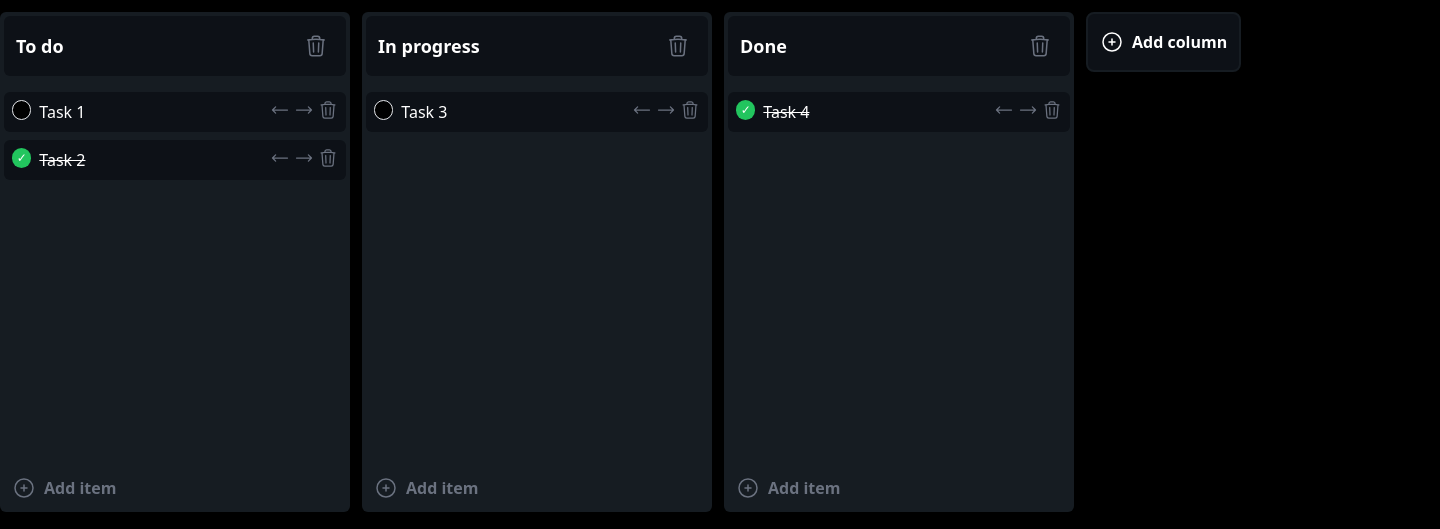
it: KanbanBoard › when the 'Add task' button is clicked › when the input is on blurred › shows the 'Add task' button on click outside the input
Click the 2nd button "Add item" at (442, 488), box [366, 468, 708, 508]
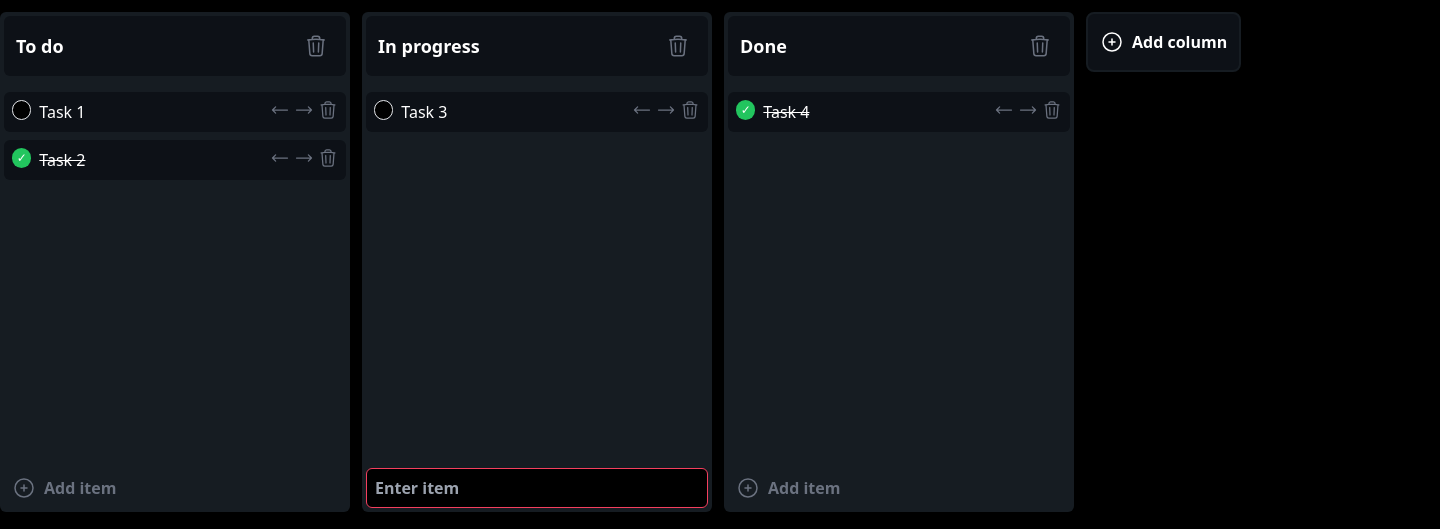
Type "New Task" into the field with placeholder "Enter item" at (537, 488), box [366, 468, 708, 508]
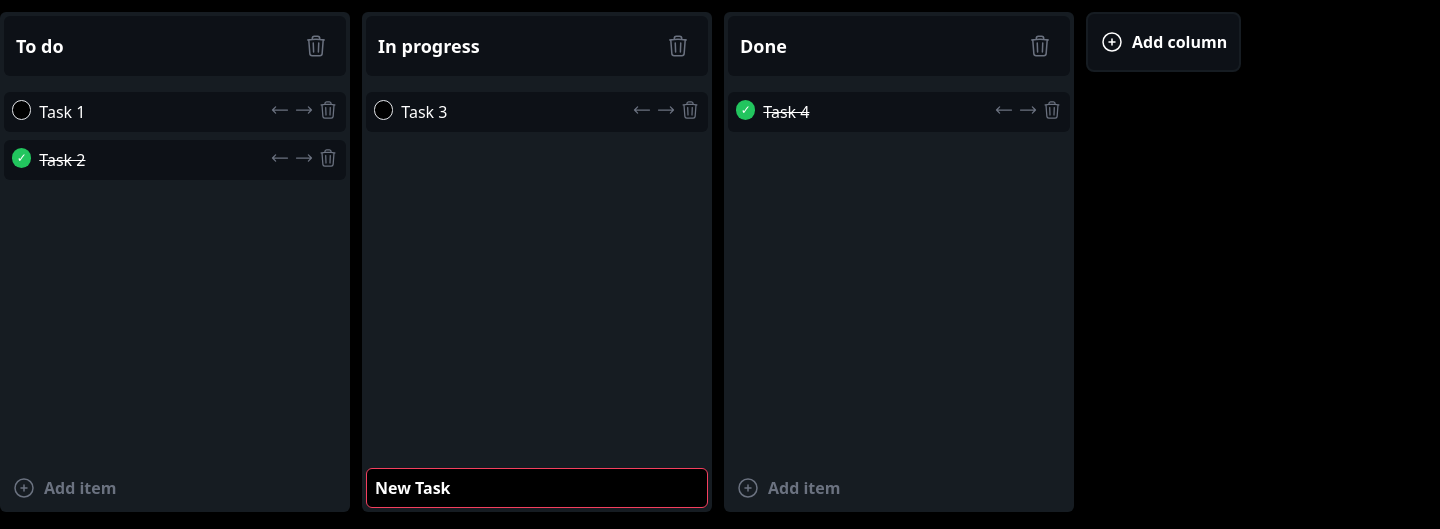
Click the element that starts with "To do" at (720, 262), box [0, 12, 1439, 512]
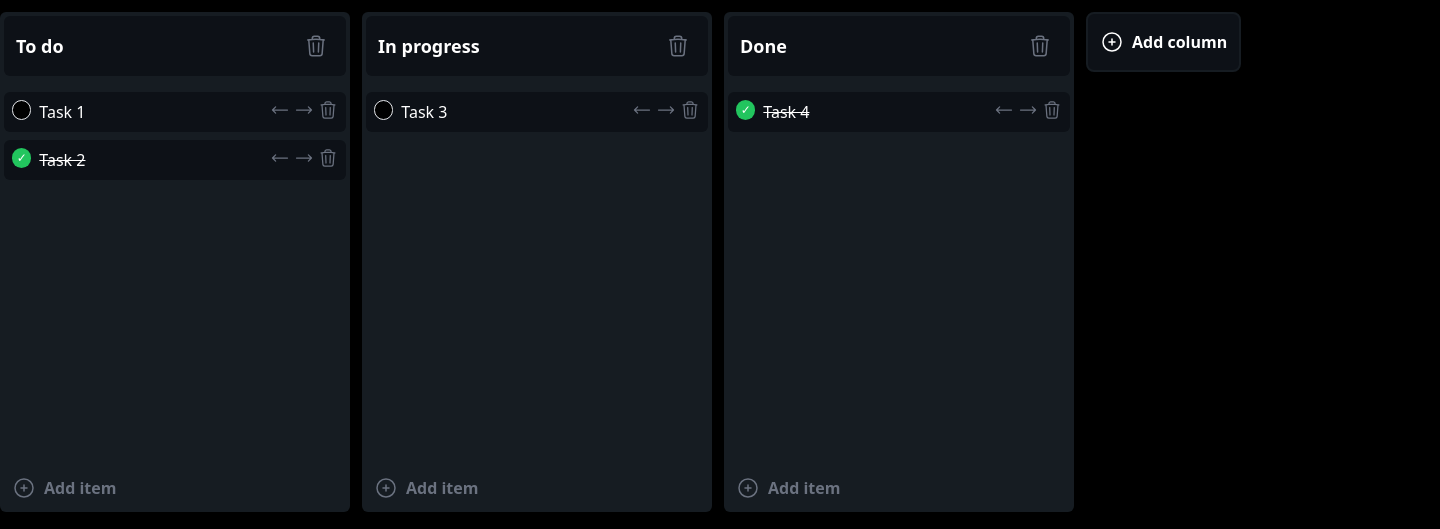
expect the text "New Task" is not shown: met
expect the 2nd button "Add item" is shown: met, box [366, 468, 708, 508]
